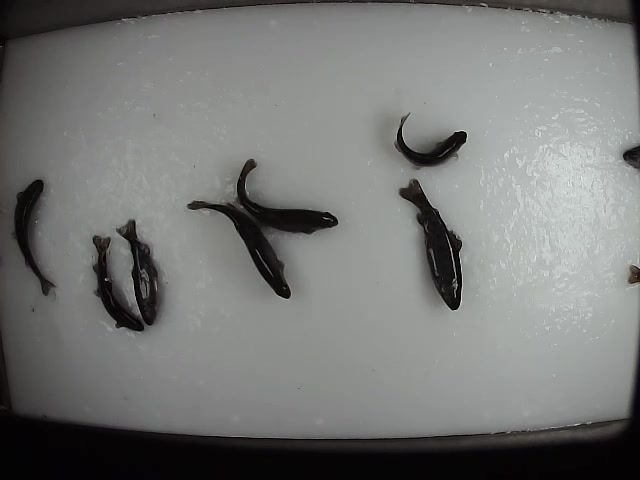fish: (182, 198, 296, 299), (394, 175, 463, 311), (234, 156, 341, 235), (8, 175, 58, 295), (90, 232, 147, 333), (110, 216, 160, 325), (392, 109, 469, 171)
